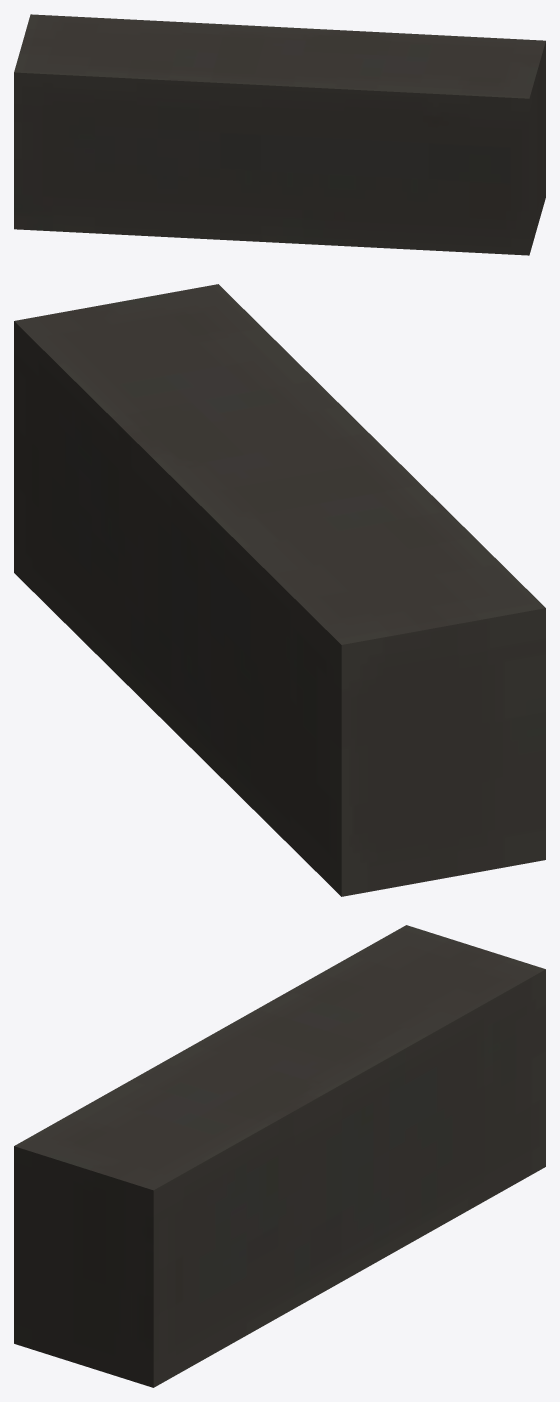
File: frame__rear_link_neg.glb
3 renders of one model, top to bottom at view 1: azimuth 30°, elevation 25°; view 2: azimuth 150°, elevation 25°; view 3: azimuth 270°, elevation 25°, orthographic. The views are drawn at different scales.
Parts seen in each view (by area): view 1: world; view 2: world; view 3: world.
Part boxes in pixels (x1=…): world: x1=14, y1=14, x2=545, y2=255; world: x1=14, y1=284, x2=545, y2=896; world: x1=14, y1=925, x2=545, y2=1387.
Size of the model in its own units: 0.144 by 0.05 by 0.122.
Materials: 1 (1 with a texture image).
